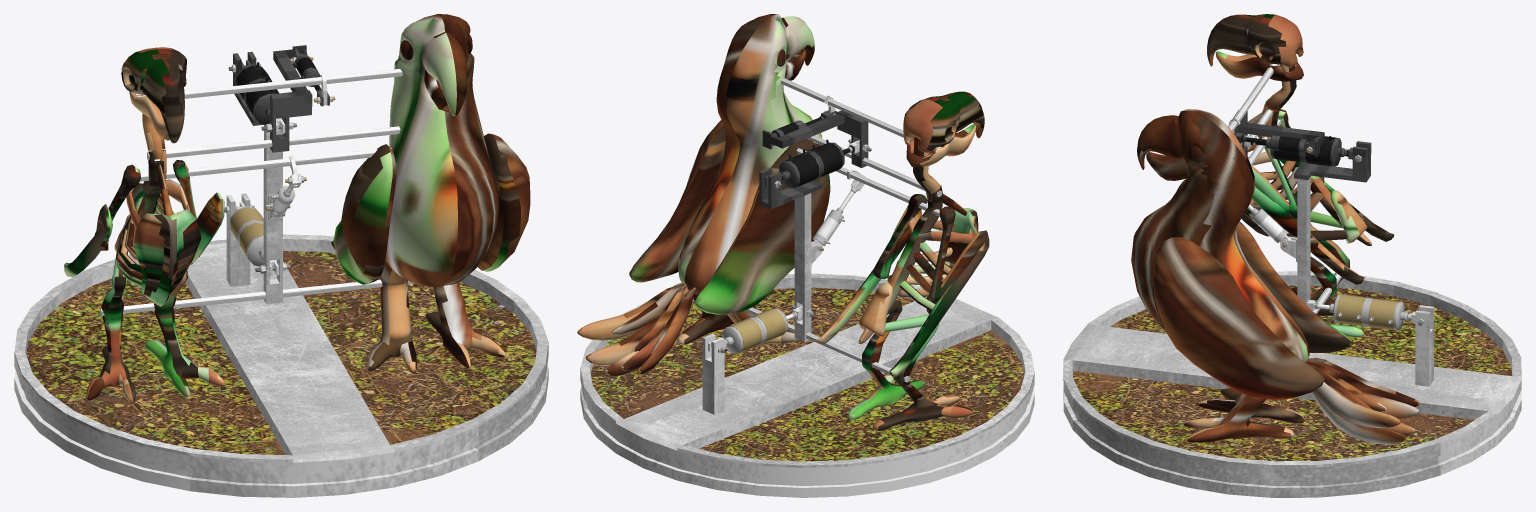
File: ParrotMech.fbx
3 views of the same model, side by side, from view 1: azimuth 30°, elevation 25°; view 2: azimuth 150°, elevation 25°; view 3: azimuth 270°, elevation 25° (orthographic). The views are drawn at different scales.
Parts seen in each view (by area): view 1: Parrot Mech; view 2: Parrot Mech; view 3: Parrot Mech.
Part boxes in pixels (left/top/right/bottom): Parrot Mech: left=14, top=14, right=548, bottom=497; Parrot Mech: left=577, top=14, right=1034, bottom=497; Parrot Mech: left=1063, top=14, right=1521, bottom=497.
Bounding box in the file's own units: 54.25 × 43.41 × 54.25.
